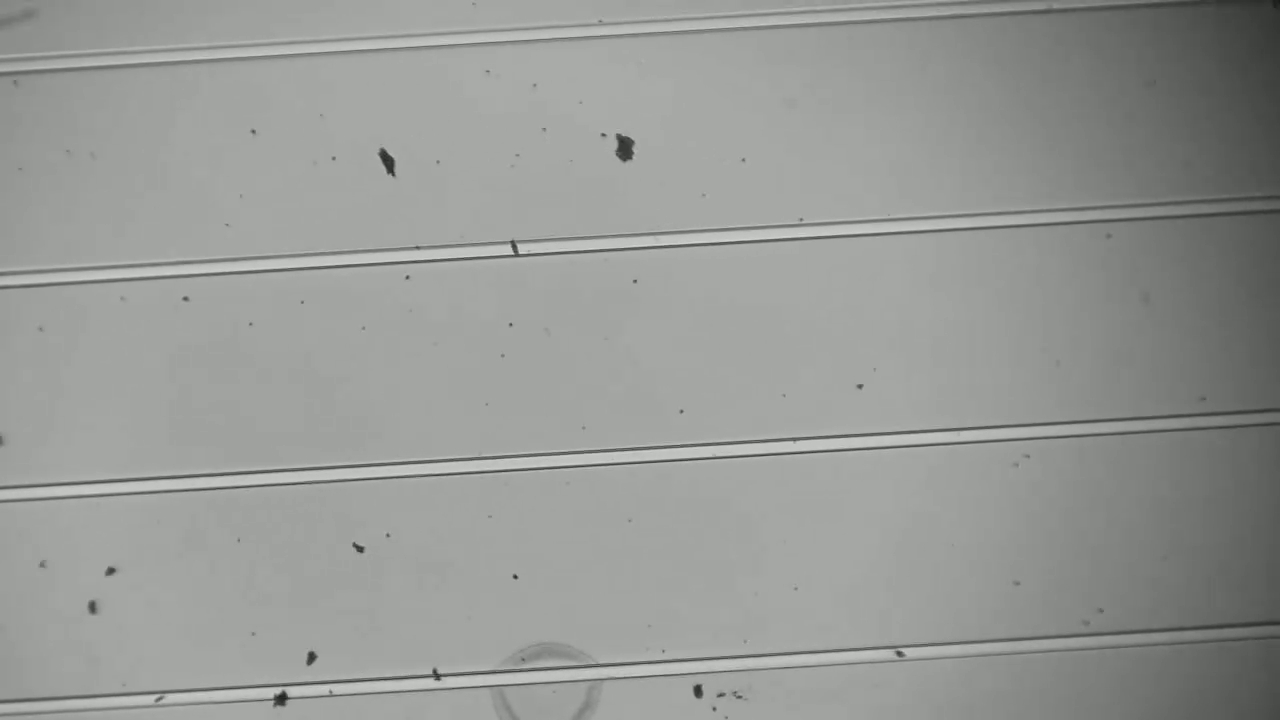stains_enbedded: (501, 226, 533, 265), (422, 661, 453, 697), (268, 680, 293, 712), (892, 642, 913, 666)
